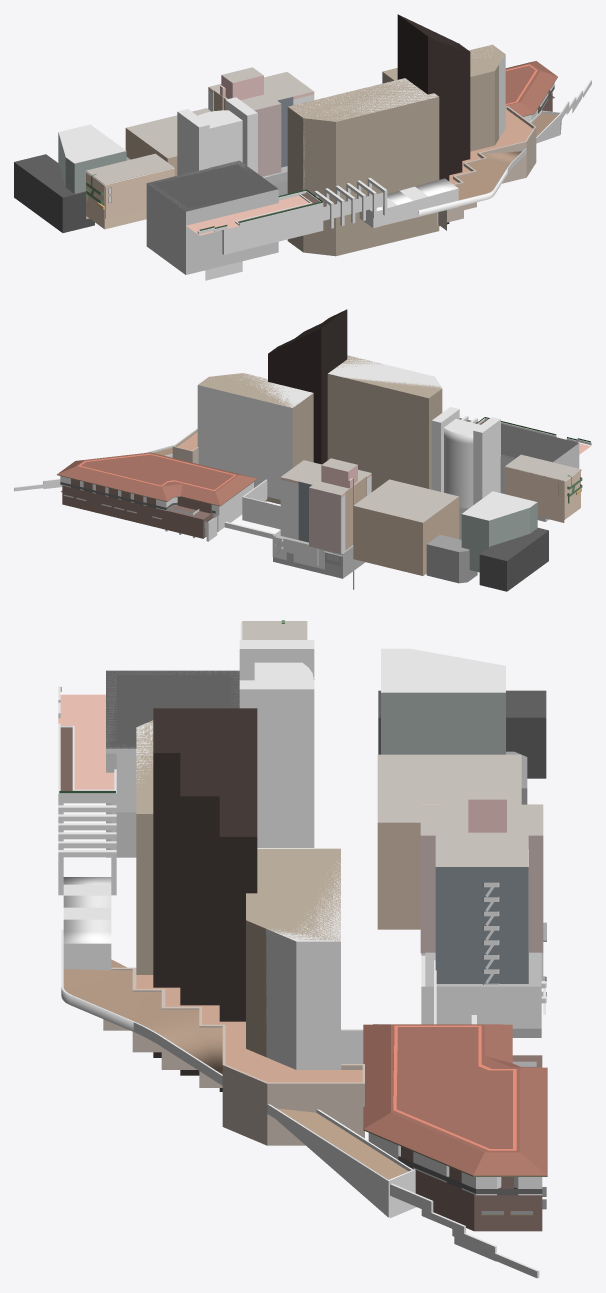
The model's file is city_west6.dae.
The picture shows the model from 3 angles, top to bottom: view 1: azimuth 30°, elevation 25°; view 2: azimuth 150°, elevation 25°; view 3: azimuth 270°, elevation 25°; orthographic projection. The views are drawn at different scales.
Parts seen in each view (by area): view 1: city_west6_a500, city_west6_a1500; view 2: city_west6_a500, city_west6_a1500; view 3: city_west6_a500, city_west6_a1500.
Boxes of the visible parts, box(x1,y1,x2,y2) form: city_west6_a500: box(14, 14, 557, 274); city_west6_a1500: box(85, 14, 591, 280); city_west6_a500: box(57, 309, 580, 591); city_west6_a1500: box(14, 309, 591, 589); city_west6_a500: box(106, 621, 547, 1231); city_west6_a1500: box(58, 620, 547, 1278).
Size of the model in its own units: 216 by 92.22 by 81.54.
